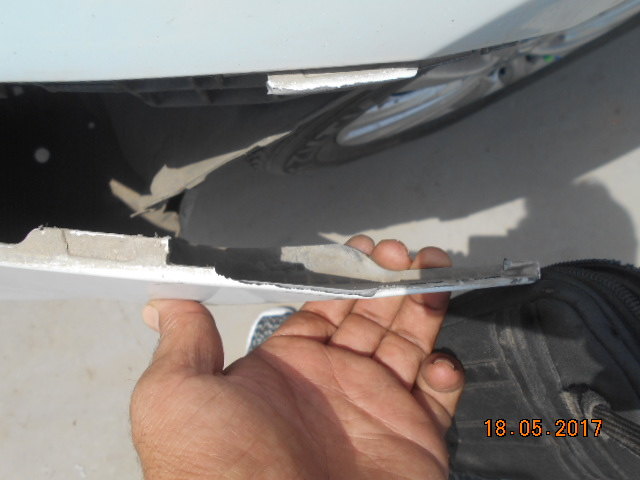Large_tear_or_damage: (123, 91, 431, 263)
